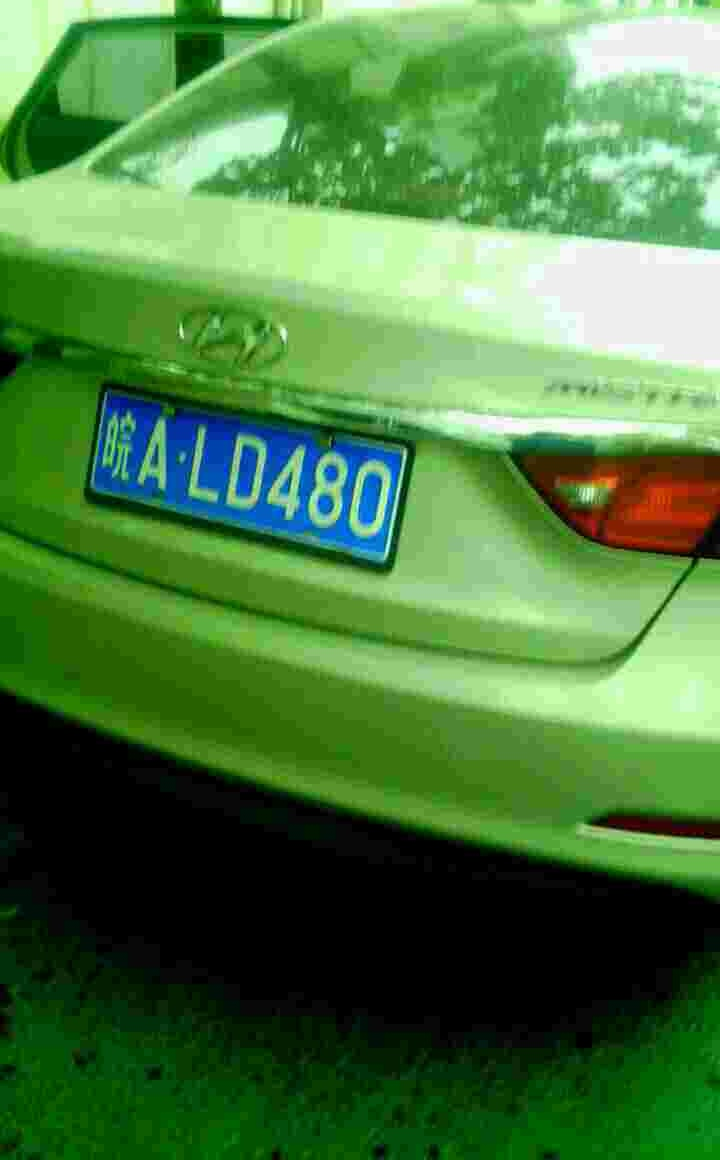license_plate: (84, 401, 395, 567)
